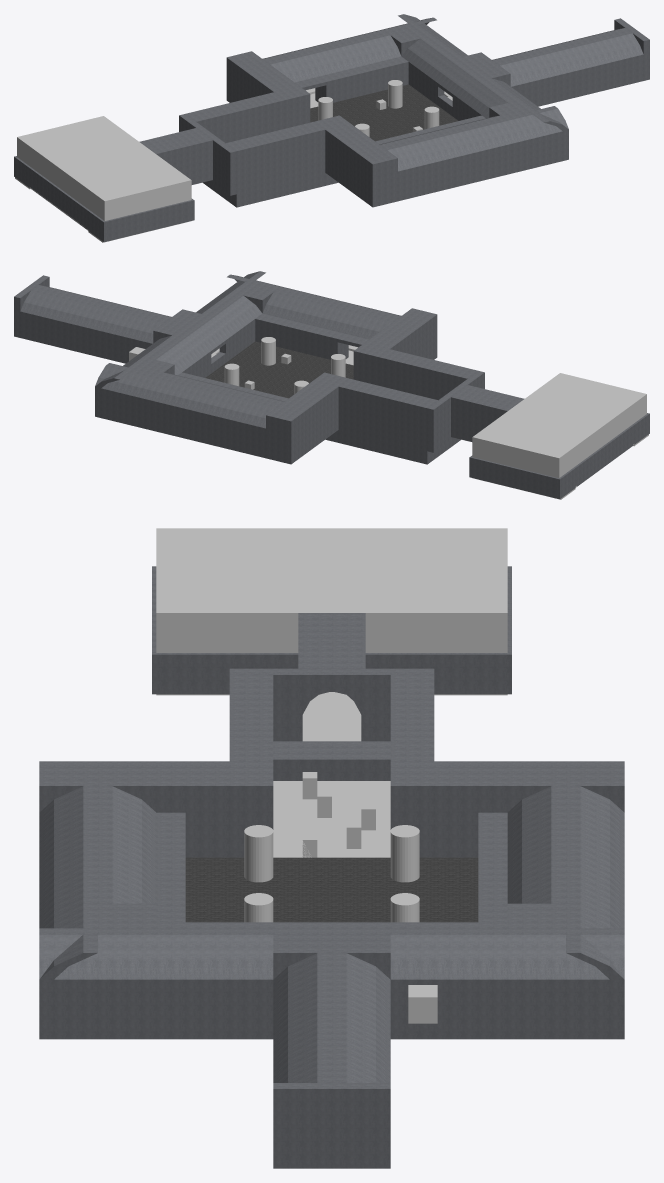
3 renders of one model, top to bottom at view 1: azimuth 30°, elevation 25°; view 2: azimuth 150°, elevation 25°; view 3: azimuth 270°, elevation 25°, orthographic. The views are drawn at different scales.
Visible parts, largest first — view 1: Cube.118, Cube.048, Cube.061, Cube.077, Cube.046, Cube.075, Cube.056, Cube.096, Cube.066, Cube.069, Cube.088, Cube.092 (+26 smaller); view 2: Cube.118, Cube.046, Cube.062, Cube.069, Cube.048, Cube.075, Cube.057, Cube.090, Cube.067, Cube.077, Cube.086, Cube.094 (+26 smaller); view 3: Cube.118, Cube.075, Cube.060, Cube.063, Cube.076, Cube.069, Cube.077, Cube.078, Cube.046, Cube.048, Cube.090, Cube.096 (+37 smaller).
Boxes of the visible parts, x1,y1,x2,y2 form: Cube.118: [17, 116, 191, 220]; Cube.048: [225, 115, 350, 207]; Cube.061: [398, 130, 568, 201]; Cube.077: [325, 123, 397, 207]; Cube.046: [185, 86, 310, 143]; Cube.075: [310, 84, 458, 141]; Cube.056: [511, 54, 643, 106]; Cube.096: [384, 106, 565, 161]; Cube.066: [315, 56, 408, 102]; Cube.069: [226, 51, 298, 102]; Cube.088: [496, 30, 639, 76]; Cube.092: [267, 32, 397, 74]; Cube.118: [472, 373, 646, 477]; Cube.046: [313, 372, 438, 464]; Cube.062: [101, 388, 265, 458]; Cube.069: [266, 380, 338, 464]; Cube.048: [353, 343, 478, 400]; Cube.075: [205, 341, 353, 398]; Cube.057: [20, 311, 152, 363]; Cube.090: [98, 363, 279, 418]; Cube.067: [255, 313, 348, 359]; Cube.077: [365, 308, 437, 359]; Cube.086: [24, 287, 167, 333]; Cube.094: [266, 289, 396, 331]; Cube.118: [156, 528, 507, 652]; Cube.075: [185, 857, 478, 922]; Cube.060: [54, 979, 273, 1039]; Cube.063: [390, 979, 624, 1039]; Cube.076: [273, 1083, 390, 1168]; Cube.069: [434, 761, 624, 857]; Cube.077: [39, 761, 229, 857]; Cube.078: [273, 781, 390, 857]; Cube.046: [390, 675, 434, 857]; Cube.048: [229, 675, 273, 857]; Cube.090: [566, 786, 609, 966]; Cube.096: [54, 786, 97, 966].
Size of the model in its own units: 91 by 8.5 by 40.
